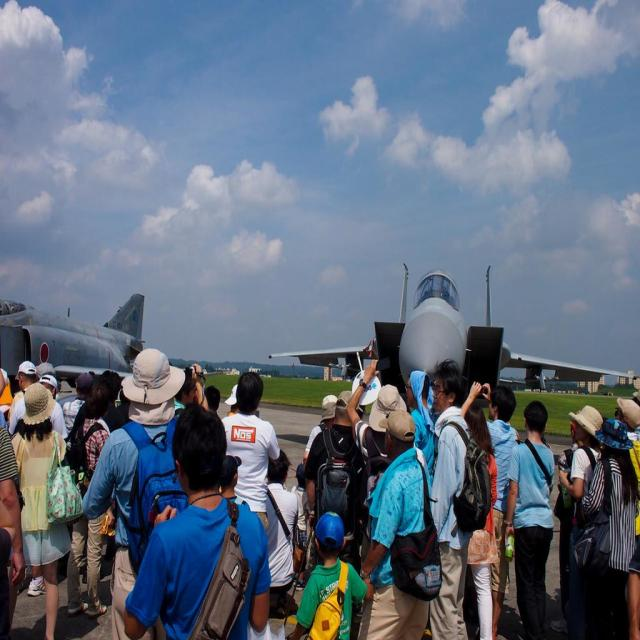MIL_Plane: (267, 263, 637, 444), (0, 292, 146, 392)
